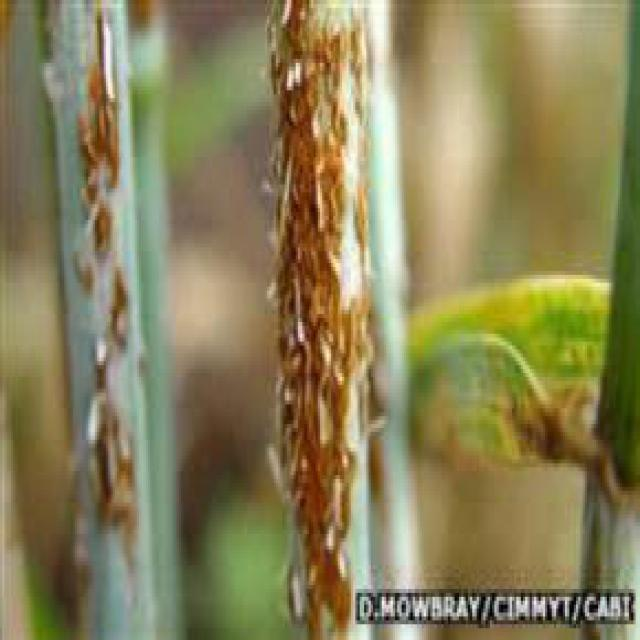Stem Rust: (42, 5, 165, 578), (258, 0, 367, 619)
